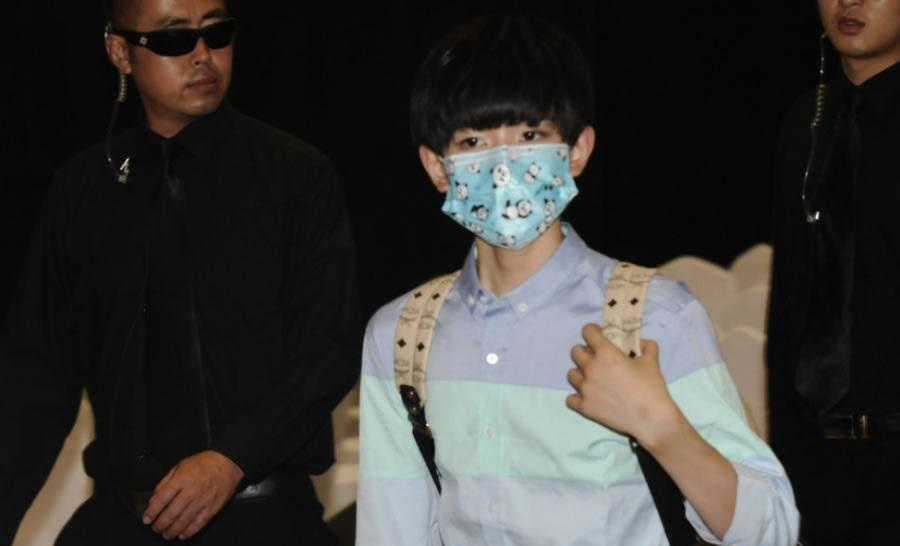NONE: (136, 7, 233, 114), (825, 1, 898, 61)
OK: (439, 104, 576, 241)
